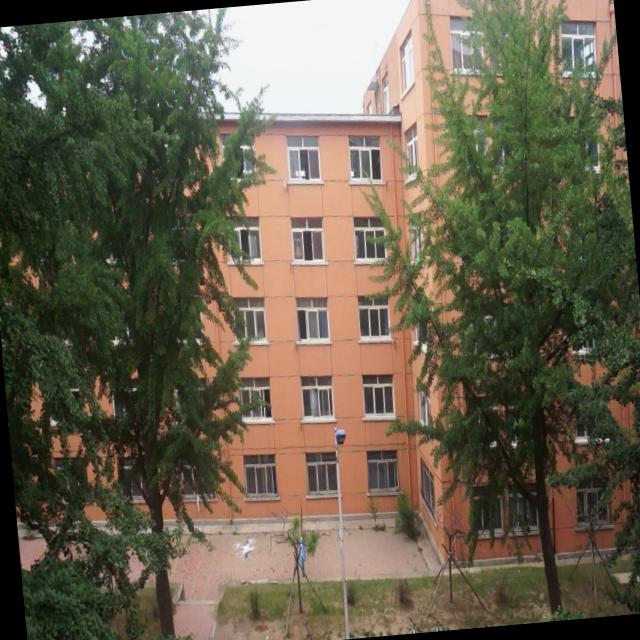drone: (230, 534, 260, 568)
